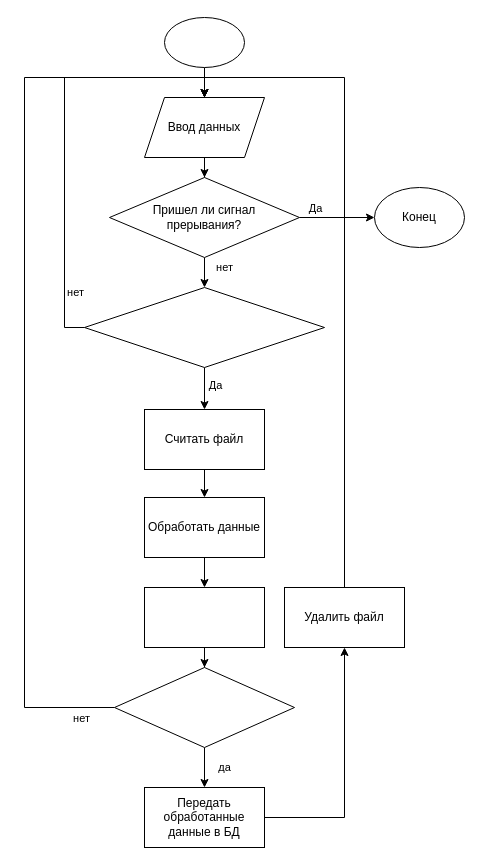
The diagram is 482 pixels wide and 865 high, and some of its shapes have lost their labels. Each missing label, with the centre of its shape:
Начало: (204,42)
Ответ от SQL сервера получен?: (204,707)
Соединение с SQL сервером: (204,617)
Файл может быть считан из папки?: (204,327)
